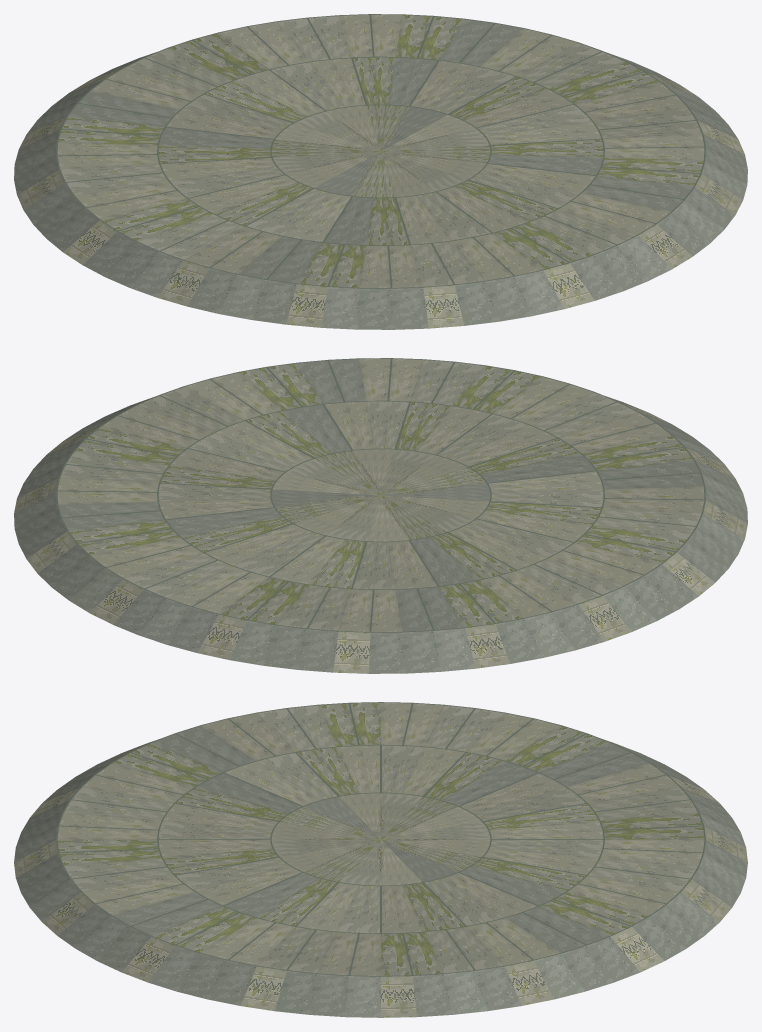
File: portal_dais.glb
3 views of the same model, one above another, from view 1: azimuth 30°, elevation 25°; view 2: azimuth 150°, elevation 25°; view 3: azimuth 270°, elevation 25° (orthographic).
Visible parts, largest first — view 1: portal_dais; view 2: portal_dais; view 3: portal_dais.
Boxes of the visible parts, x1,y1,x2,y2 form: portal_dais: (14,14,747,329); portal_dais: (14,358,747,673); portal_dais: (14,702,747,1017).
Size of the model in its own units: 12 by 0.423 by 12.
Materials: 2 (1 with a texture image).
